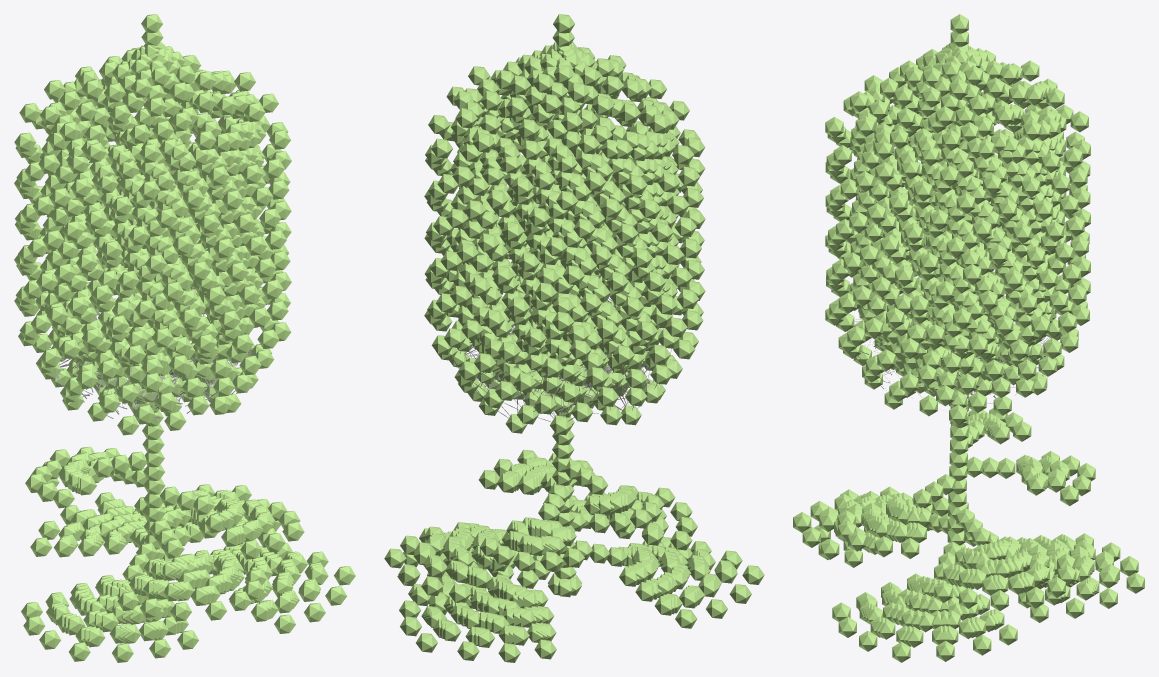
Rendered from lupine_bluebonnet.glb.
3 views of the same model, side by side, from view 1: azimuth 30°, elevation 25°; view 2: azimuth 150°, elevation 25°; view 3: azimuth 270°, elevation 25° (orthographic). The views are drawn at different scales.
Bounding box in the file's own units: 21.47 × 38.19 × 21.32.
